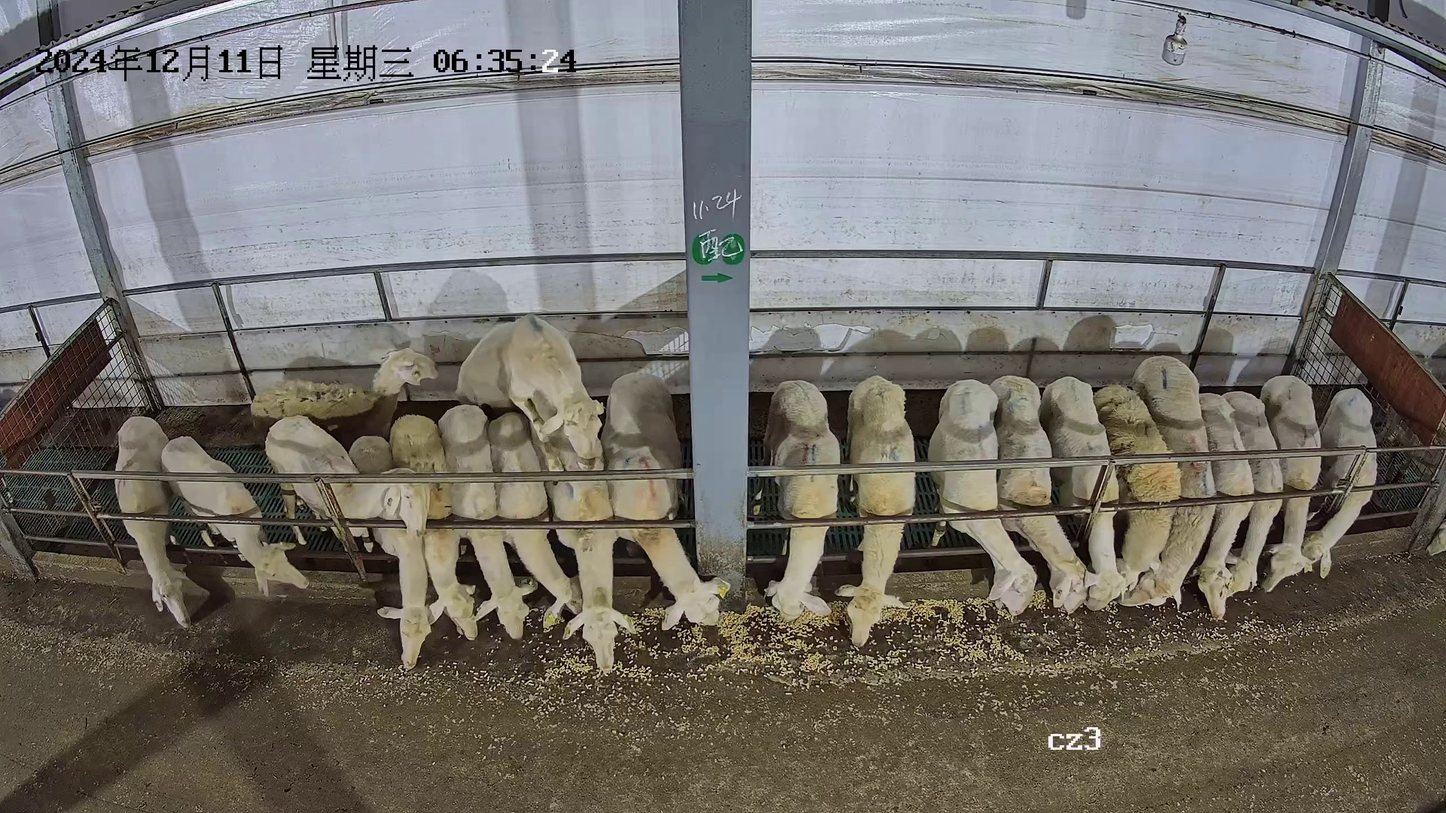Nmounting: (453, 311, 612, 674)
